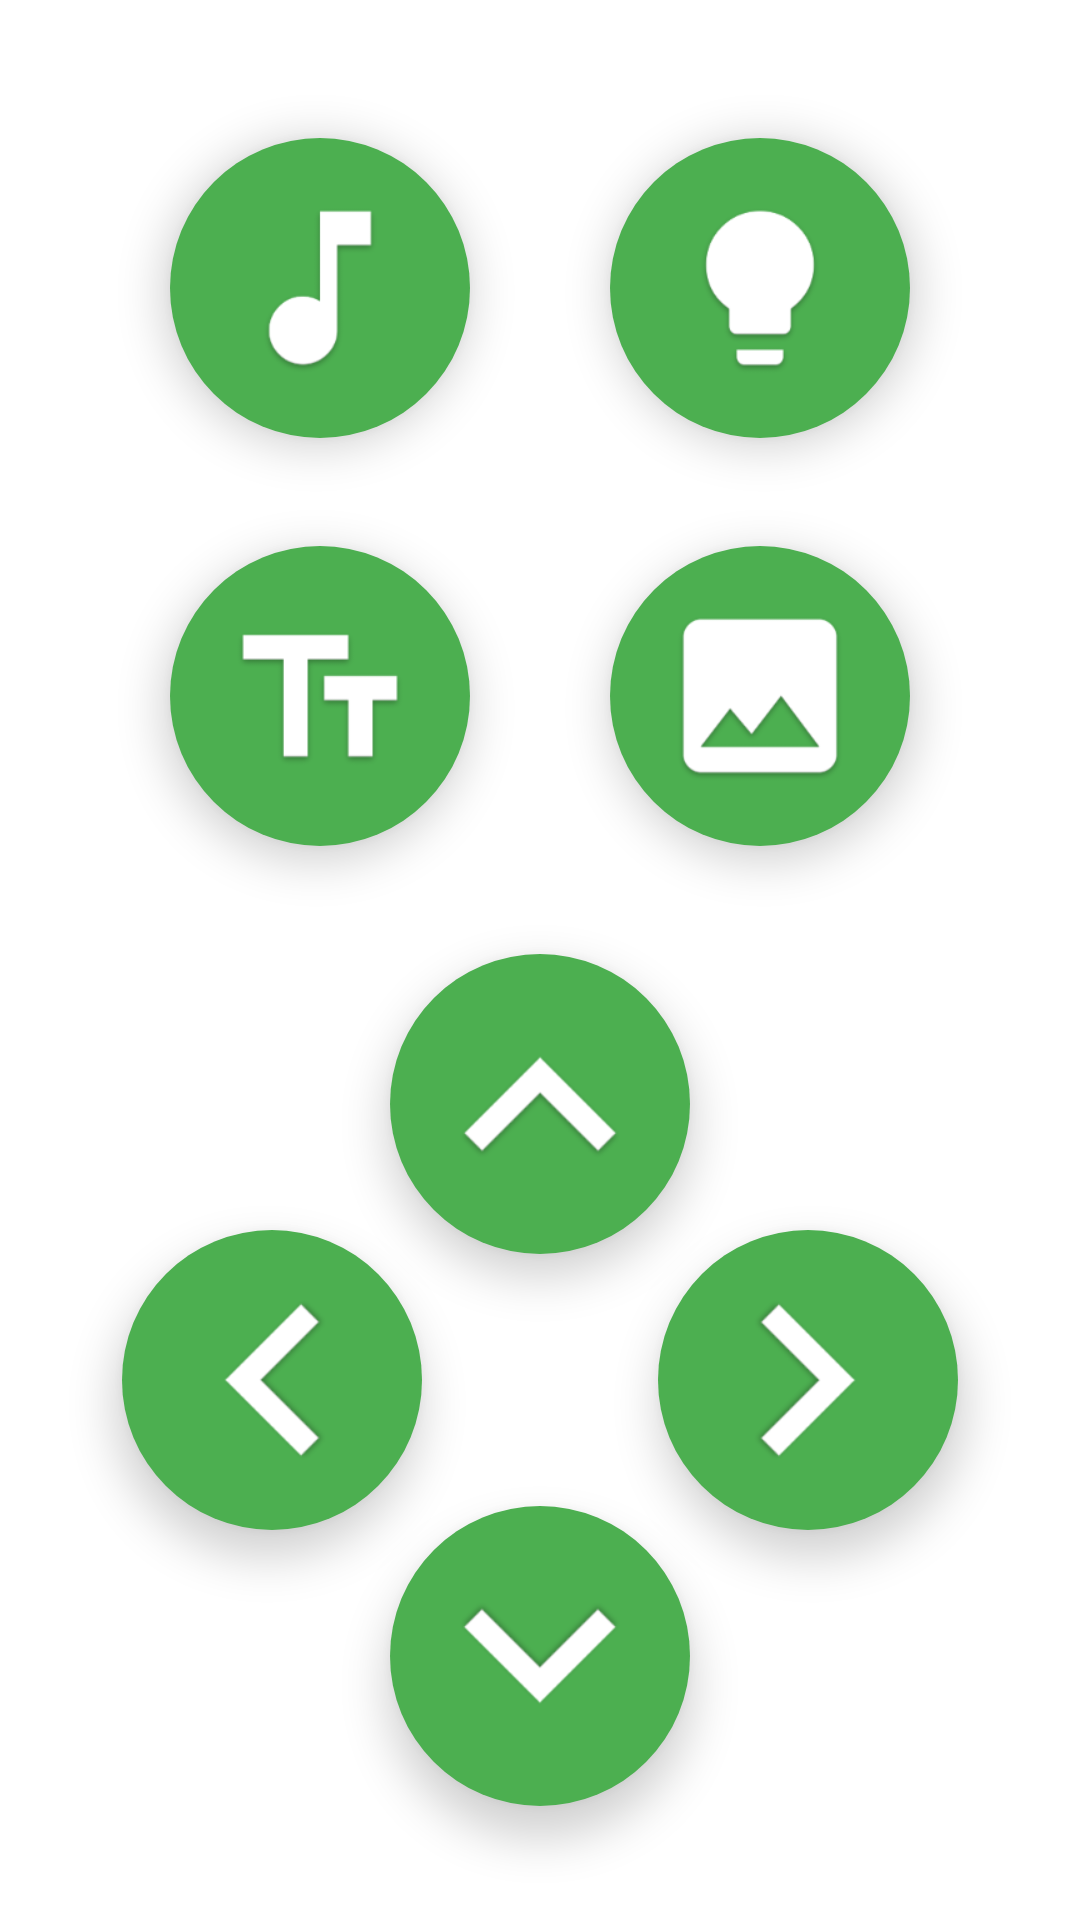

Point at icon controls on the screen. Image size 1080 x 1920, points as (x=x, y=y).
led: (x=760, y=289)
music: (x=320, y=288)
text: (x=320, y=696)
